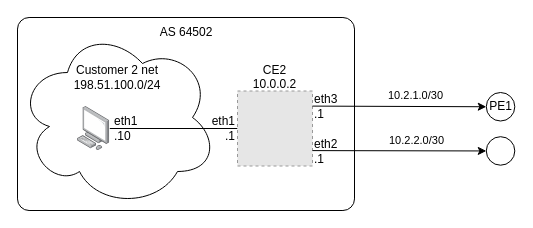
Some shapes in this 533 by 228 pixel diagram are drawn without their labels. Grey dashed boxes stand in for pictures. Here are the shapes that lost their labels. From the top down, the centre of each, then its label:
the point at 93,128: n2
the point at 500,150: PE2
